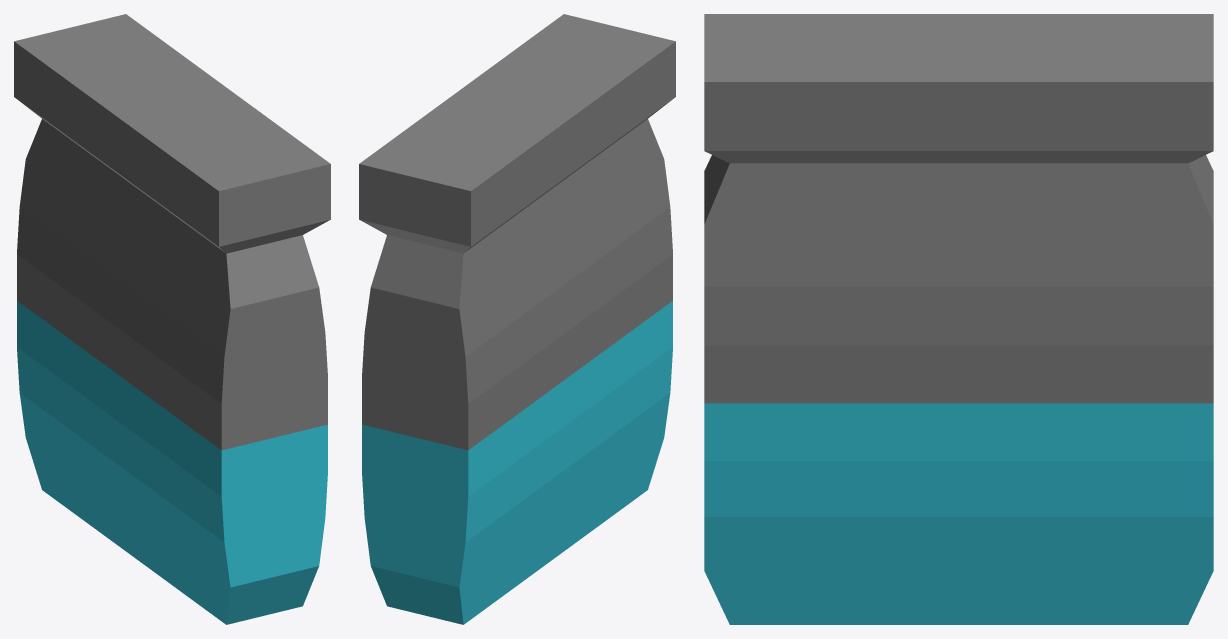
File: math_bag.fbx
The picture shows the model from 3 angles, left to right: view 1: azimuth 30°, elevation 25°; view 2: azimuth 150°, elevation 25°; view 3: azimuth 270°, elevation 25°; orthographic projection. The views are drawn at different scales.
Visible parts, largest first — view 1: Cube; view 2: Cube; view 3: Cube.
Part boxes in pixels (x1,y1,x2,y2): Cube: [14, 14, 330, 624]; Cube: [359, 14, 675, 624]; Cube: [704, 14, 1213, 624].
Bounding box in the file's own units: 63.12 × 240 × 200.
